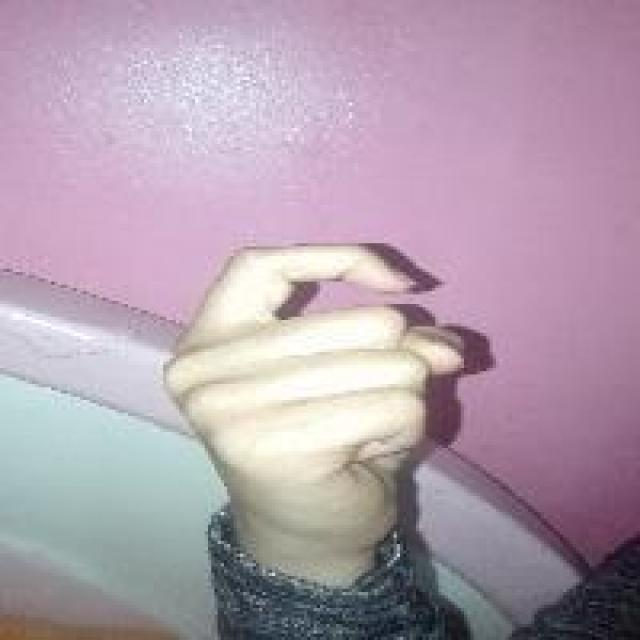X: (157, 234, 467, 547)
